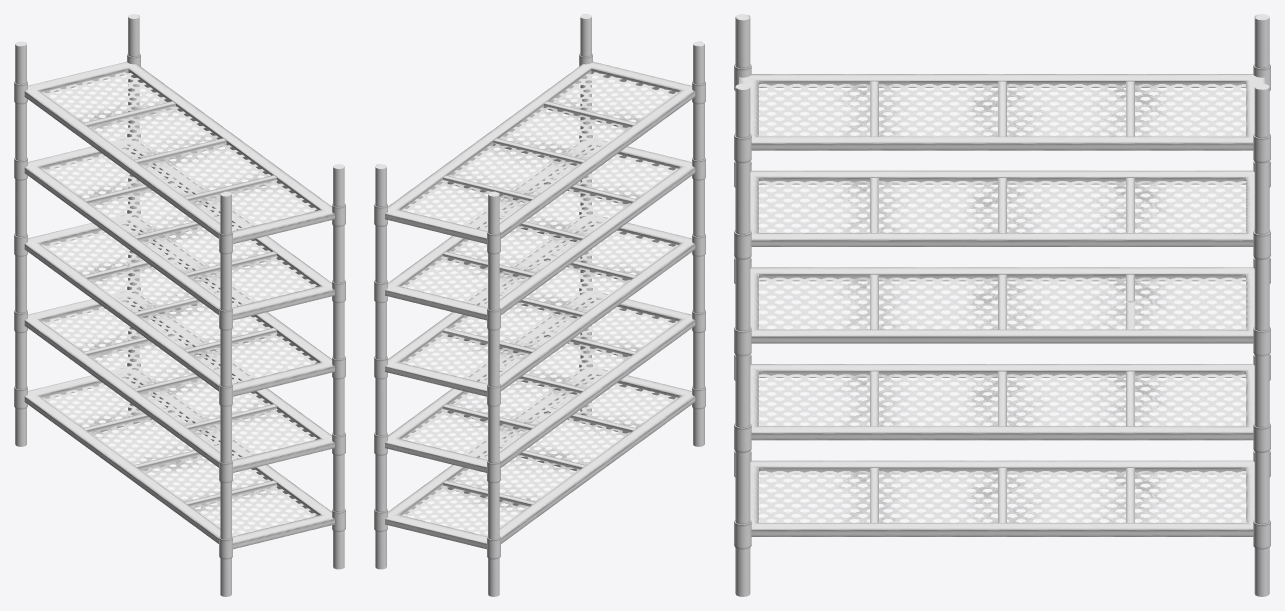
3 views of the same model, side by side, from view 1: azimuth 30°, elevation 25°; view 2: azimuth 150°, elevation 25°; view 3: azimuth 270°, elevation 25° (orthographic). The views are drawn at different scales.
Parts seen in each view (by area): view 1: Cylinder_Material_0; view 2: Cylinder_Material_0; view 3: Cylinder_Material_0.
Part boxes in pixels (bbox=[...]): Cylinder_Material_0: bbox=[14, 14, 345, 596]; Cylinder_Material_0: bbox=[374, 14, 705, 596]; Cylinder_Material_0: bbox=[734, 14, 1270, 596].
Size of the model in its own units: 2.85 by 8.73 by 8.38.
Materials: 1 (1 with a texture image).
